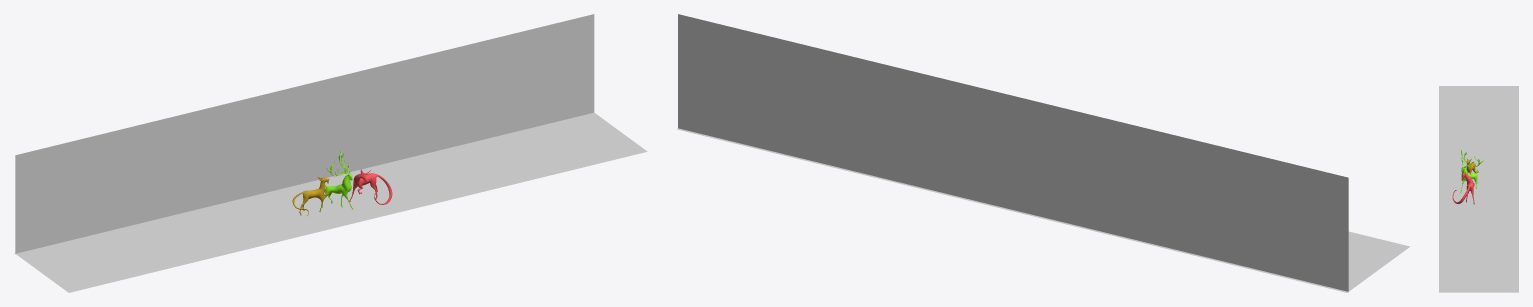
The model's file is models.obj.
The picture shows the model from 3 angles, left to right: view 1: azimuth 30°, elevation 25°; view 2: azimuth 150°, elevation 25°; view 3: azimuth 270°, elevation 25°; orthographic projection. The views are drawn at different scales.
Visible parts, largest first — view 1: Plane.001, Plane, object 4, object 3, object 5; view 2: Plane.001, Plane; view 3: Plane, object 4, object 3, object 5.
Part boxes in pixels (x1,y1,x2,y2): Plane.001: (15, 14, 594, 254); Plane: (14, 112, 647, 292); object 4: (322, 150, 353, 209); object 3: (349, 169, 392, 204); object 5: (292, 177, 329, 215); Plane.001: (678, 14, 1348, 292); Plane: (677, 128, 1410, 292); Plane: (1439, 86, 1518, 292); object 4: (1460, 149, 1483, 192); object 3: (1452, 171, 1474, 204); object 5: (1466, 158, 1475, 174).
Size of the model in its own units: 68.47 by 11.21 by 11.21.
